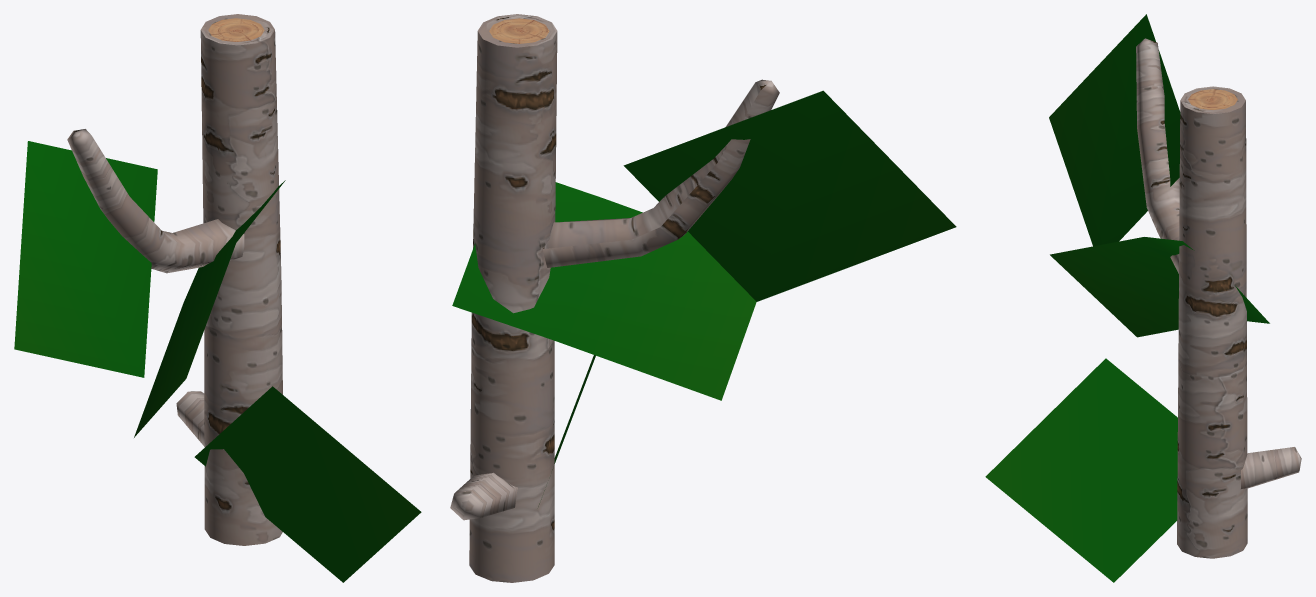
File: obj_harvests_trees_birch01_p04.fbx
The picture shows the model from 3 angles, left to right: view 1: azimuth 30°, elevation 25°; view 2: azimuth 150°, elevation 25°; view 3: azimuth 270°, elevation 25°; orthographic projection. The views are drawn at different scales.
Visible parts, largest first — view 1: chunk04; view 2: chunk04; view 3: chunk04.
Part boxes in pixels (x1,y1,x2,y2): chunk04: (14,14,421,582); chunk04: (450,14,956,582); chunk04: (985,14,1301,582).
Bounding box in the file's own units: 6.21 × 8.37 × 5.2.
